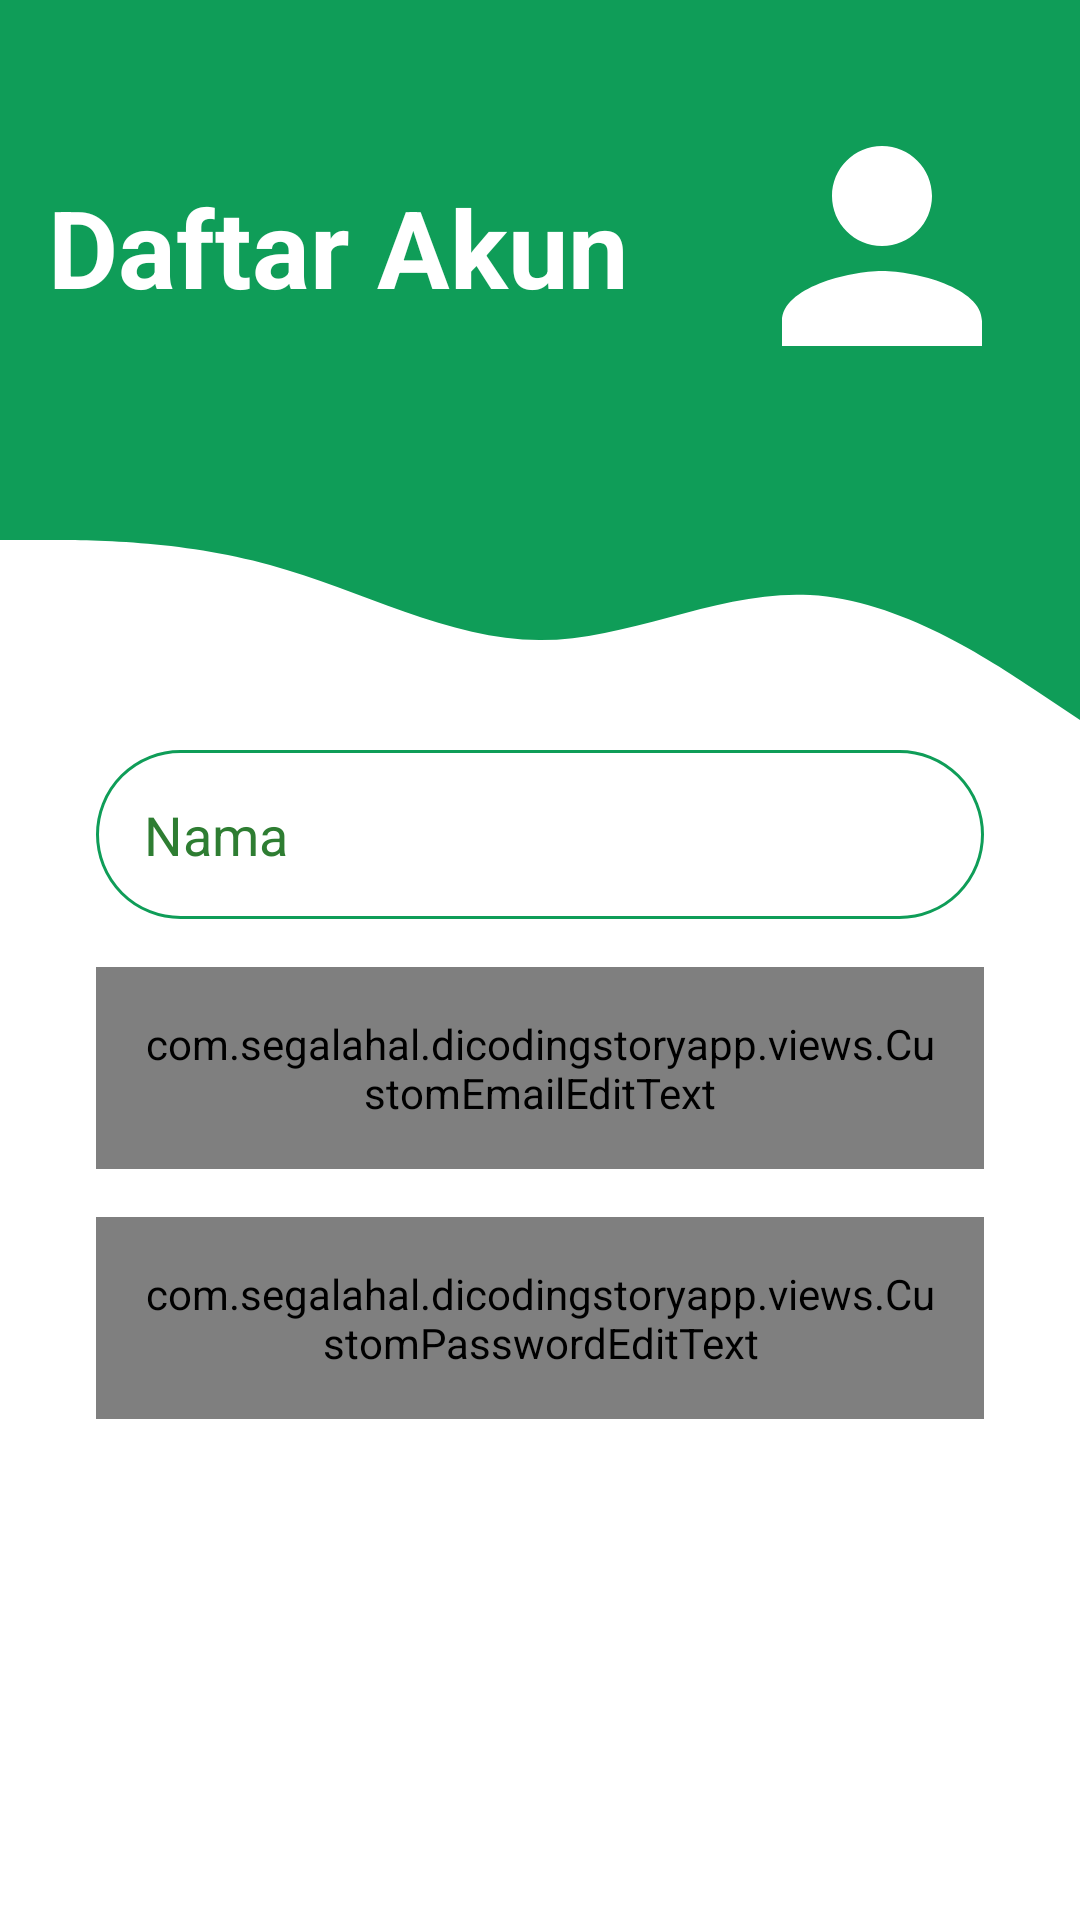

Screen size 1080px x 1920px. Icon name, then its box in pixels as Rect(x1, y1, x2, y2):
person: Rect(782, 146, 982, 346)
